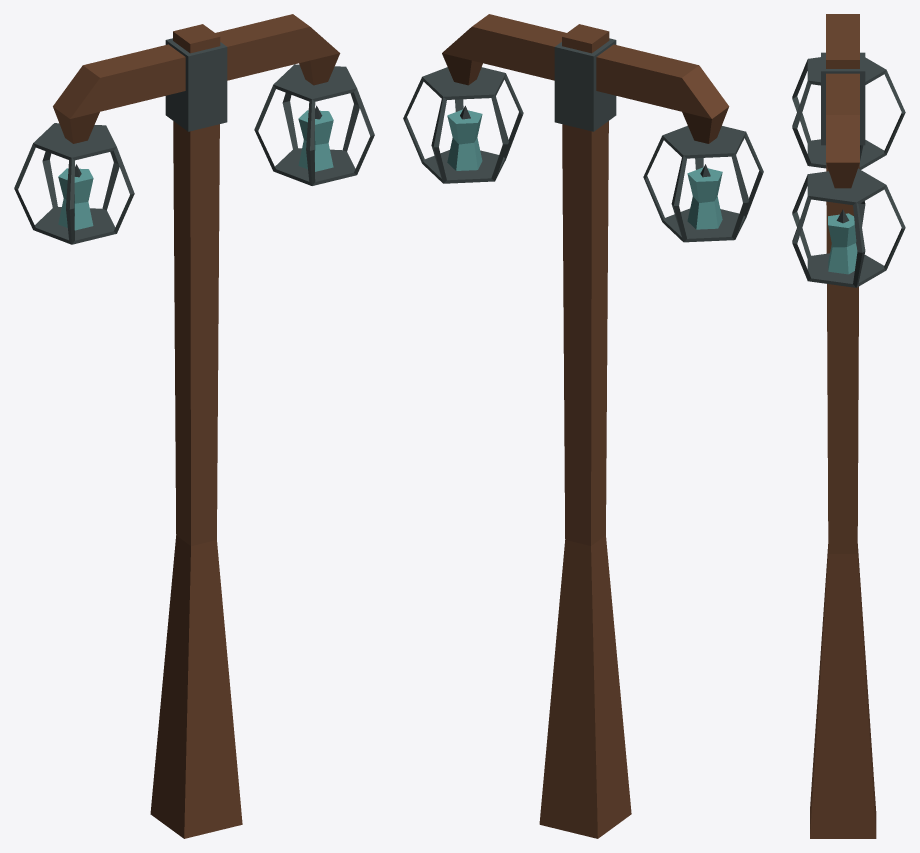
Rendered from Lamp_6_Blue.fbx.
3 renders of one model, left to right at view 1: azimuth 30°, elevation 25°; view 2: azimuth 150°, elevation 25°; view 3: azimuth 270°, elevation 25°, orthographic.
Parts seen in each view (by area): view 1: Lamp_6_Blue; view 2: Lamp_6_Blue; view 3: Lamp_6_Blue.
Part boxes in pixels (x1,y1,x2,y2): Lamp_6_Blue: [14, 14, 374, 838]; Lamp_6_Blue: [403, 14, 763, 838]; Lamp_6_Blue: [792, 14, 905, 838].
Size of the model in its own units: 115 by 250 by 33.27.
